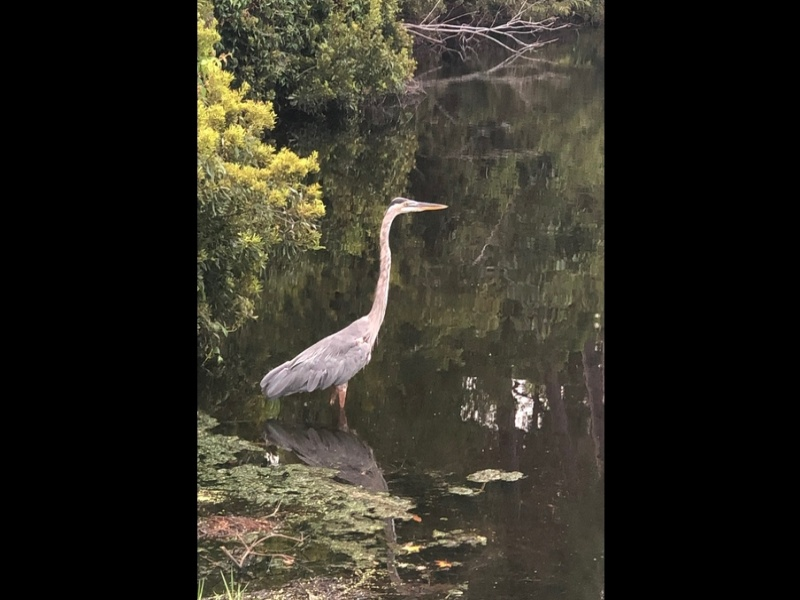heron: (257, 192, 450, 410)
